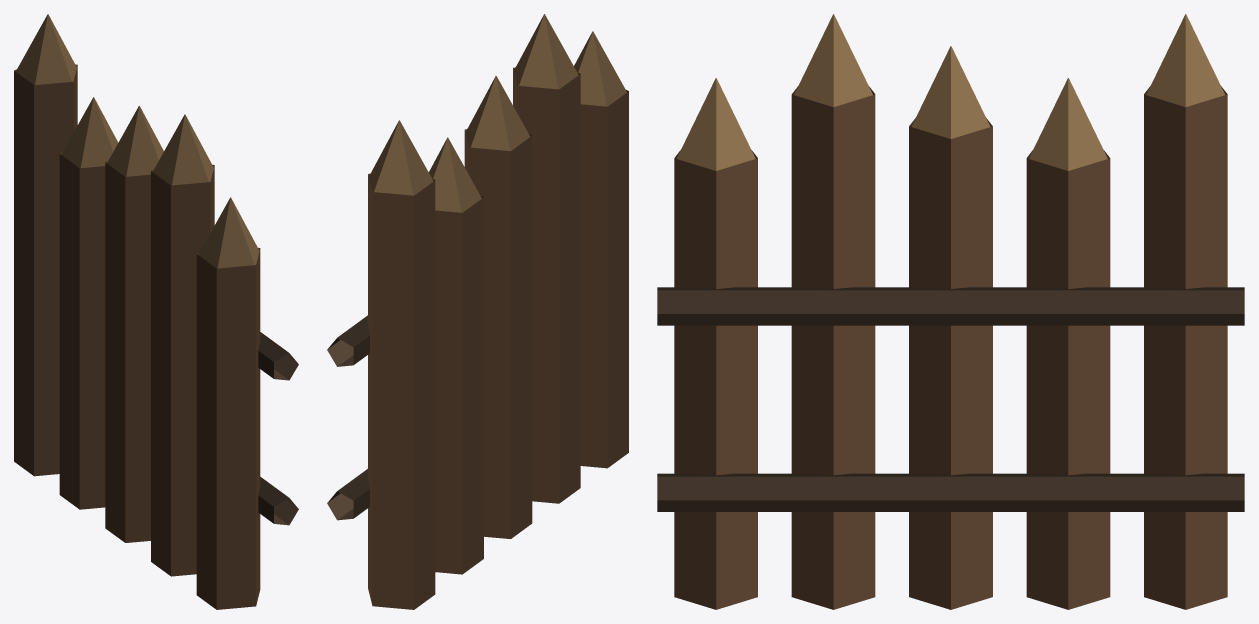
3 views of the same model, side by side, from view 1: azimuth 30°, elevation 25°; view 2: azimuth 150°, elevation 25°; view 3: azimuth 270°, elevation 25° (orthographic). The views are drawn at different scales.
Parts seen in each view (by area): view 1: 9973475499618bd192a69c690958e32ddab6bde000a2fa2ecaa135402285; view 2: 9973475499618bd192a69c690958e32ddab6bde000a2fa2ecaa135402285; view 3: 9973475499618bd192a69c690958e32ddab6bde000a2fa2ecaa135402285.
Part boxes in pixels (left/top/right/bottom): 9973475499618bd192a69c690958e32ddab6bde000a2fa2ecaa135402285: left=14, top=14, right=298, bottom=609; 9973475499618bd192a69c690958e32ddab6bde000a2fa2ecaa135402285: left=327, top=14, right=628, bottom=609; 9973475499618bd192a69c690958e32ddab6bde000a2fa2ecaa135402285: left=657, top=14, right=1244, bottom=609.
Size of the model in its own units: 0.3513 by 2.17 by 2.
Materials: 1 (1 with a texture image).
